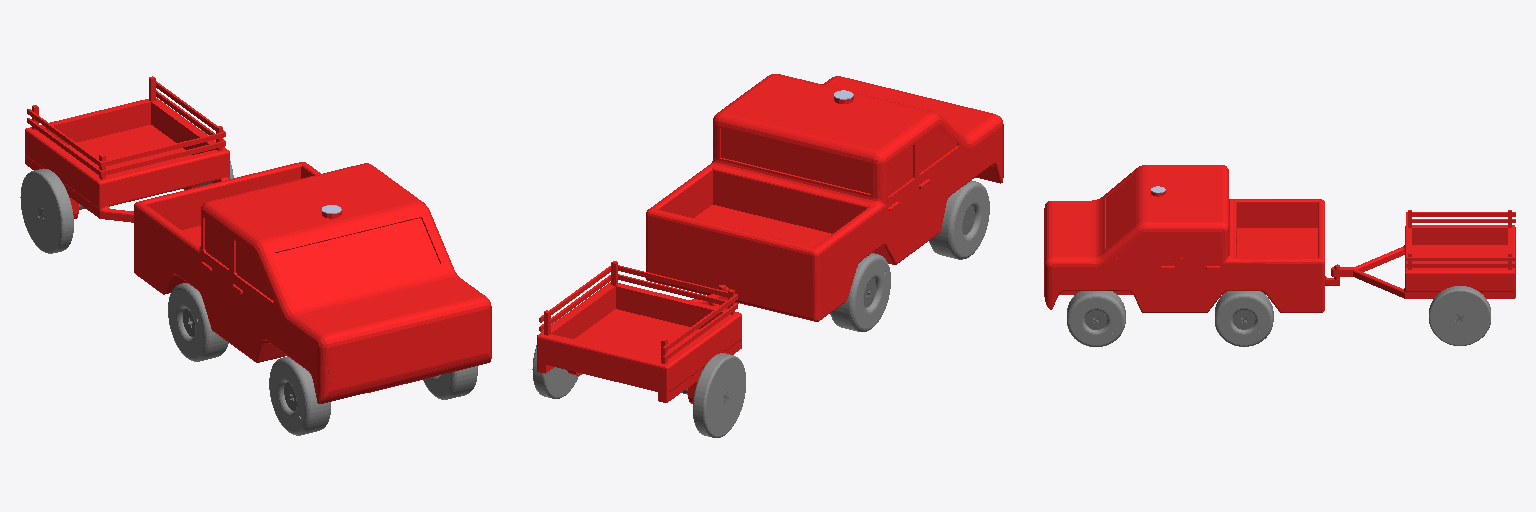
--- Render facts (derived) ---
The picture shows the robot from 3 angles, left to right: view 1: azimuth 30°, elevation 25°; view 2: azimuth 150°, elevation 25°; view 3: azimuth 270°, elevation 25°; orthographic projection.
Model project_1_group_2 with 17 links and 16 joints (2 revolute, 7 continuous, 7 fixed), rooted at dummy_link, posed all joints at 0.
Links seen in each view (by area): view 1: base_link, trailer, trailer_wheel_1, tire_1, drive_tire_1, tire_2; view 2: base_link, trailer, trailer_wheel_1, tire_1, drive_tire_1, trailer_wheel_2; view 3: base_link, trailer, trailer_wheel_2, tire_2, drive_tire_2.
Boxes of the visible links, x1=… form: base_link: x1=134, y1=162, x2=491, y2=403; trailer: x1=25, y1=76, x2=229, y2=222; trailer_wheel_1: x1=20, y1=169, x2=73, y2=253; tire_1: x1=269, y1=356, x2=330, y2=435; drive_tire_1: x1=168, y1=283, x2=228, y2=361; tire_2: x1=423, y1=366, x2=477, y2=399; base_link: x1=646, y1=74, x2=1003, y2=321; trailer: x1=537, y1=261, x2=741, y2=403; trailer_wheel_1: x1=693, y1=353, x2=745, y2=437; tire_1: x1=929, y1=180, x2=989, y2=259; drive_tire_1: x1=830, y1=253, x2=890, y2=331; trailer_wheel_2: x1=532, y1=314, x2=578, y2=398; base_link: x1=1044, y1=165, x2=1339, y2=312; trailer: x1=1331, y1=210, x2=1515, y2=298; trailer_wheel_2: x1=1429, y1=286, x2=1490, y2=345; tire_2: x1=1067, y1=291, x2=1125, y2=346; drive_tire_2: x1=1215, y1=291, x2=1273, y2=346.
Size in the robot's own frame: 0.5207 by 1.62 by 0.4847 metres.
16 mesh visuals loaded from 16 distinct referenced files (16 binary STL).

URDF robot description (project_1_group_2):
<?xml version="1.0" ?>
<!-- =================================================================================== -->
<!-- |    This document was autogenerated by xacro from [local-path]/kunj_model_ws/src/project_1_group_2/urdf/project_1_group_2.urdf.xacro | -->
<!-- |    EDITING THIS FILE BY HAND IS NOT RECOMMENDED                                 | -->
<!-- =================================================================================== -->
<!-- This URDF was automatically created by SolidWorks to URDF Exporter! Originally created by Stephen Brawner ([email redacted]) 
     Commit Version: 1.6.0-4-g7f85cfe  Build Version: 1.6.7995.38578
     For more information, please see http://wiki.ros.org/sw_urdf_exporter -->
<robot name="project_1_group_2">
  <link name="dummy_link"/>
  <joint name="dummy_joint" type="fixed">
    <origin rpy="0 0 0" xyz="0 0 0"/>
    <parent link="dummy_link"/>
    <child link="base_link"/>
  </joint>
  <link name="base_link">
    <inertial>
      <origin rpy="0 0 0" xyz="0.219542184923656 0.253147662670064 0.488981343790689"/>
      <mass value="1"/>
      <inertia ixx="3.47686976214323" ixy="1.28363813560472E-06" ixz="-8.67881754875189E-06" iyy="4.33091580677011" iyz="-0.0565812633669083" izz="1.5150564663539"/>
    </inertial>
    <visual>
      <origin rpy="0 0 0" xyz="0 0 0"/>
      <geometry>
        <mesh filename="package://project_1_group_2/meshes/base_link.STL"/>
      </geometry>
      <material name="">
        <color rgba="1 0.168627450980392 0.168627450980392 1"/>
      </material>
    </visual>
    <collision>
      <origin rpy="0 0 0" xyz="0 0 0"/>
      <geometry>
        <mesh filename="package://project_1_group_2/meshes/base_link.STL"/>
      </geometry>
    </collision>
  </link>
  <link name="steering_wheel_1">
    <inertial>
      <origin rpy="0 0 0" xyz="2.86075080291326E-08 -0.0749063419355981 -0.00254051949689645"/>
      <mass value="5.295424107267105"/>
      <inertia ixx="0.000710809060839366" ixy="-1.53957020615015E-10" ixz="-3.53322320543782E-10" iyy="0.000104054571155282" iyz="3.85934455800395E-05" izz="0.000690101015602262"/>
    </inertial>
    <visual>
      <origin rpy="0 0 0" xyz="0 0 0"/>
      <geometry>
        <mesh filename="package://project_1_group_2/meshes/steering_wheel_1.STL"/>
      </geometry>
      <material name="">
        <color rgba="1 0.168627450980392 0.168627450980392 1"/>
      </material>
    </visual>
    <collision>
      <origin rpy="0 0 0" xyz="0 0 0"/>
      <geometry>
        <mesh filename="package://project_1_group_2/meshes/steering_wheel_1.STL"/>
      </geometry>
    </collision>
  </link>
  <joint name="steering_joint_1" type="revolute">
    <origin rpy="-1.5708 0 -1.5708" xyz="0.070952 -0.7342 0.035594"/>
    <parent link="base_link"/>
    <child link="steering_wheel_1"/>
    <axis xyz="0 1 0"/>
    <limit effort="10" lower="-3.14" upper="3.14" velocity="10"/>
  </joint>
  <link name="wheel_1">
    <inertial>
      <origin rpy="0 0 0" xyz="0 0.0251005990323743 0"/>
      <mass value="0.217134053712094"/>
      <inertia ixx="0.000126052696684198" ixy="-3.30911918449584E-21" ixz="6.7762635780344E-21" iyy="0.000159854355976214" iyz="-7.03947290074457E-21" izz="0.000126052696684198"/>
    </inertial>
    <visual>
      <origin rpy="0 0 0" xyz="0 0 0"/>
      <geometry>
        <mesh filename="package://project_1_group_2/meshes/wheel_1.STL"/>
      </geometry>
      <material name="">
        <color rgba="0.498039215686275 0.498039215686275 0.498039215686275 1"/>
      </material>
    </visual>
    <collision>
      <origin rpy="0 0 0" xyz="0 0 0"/>
      <geometry>
        <mesh filename="package://project_1_group_2/meshes/wheel_1.STL"/>
      </geometry>
    </collision>
  </link>
  <joint name="wheel_1_joint" type="continuous">
    <origin rpy="-1.5707963267949 0 -1.16226628629428" xyz="0 -0.0234950000000001 -0.040767"/>
    <parent link="steering_wheel_1"/>
    <child link="wheel_1"/>
    <axis xyz="0 1 0"/>
  </joint>
  <link name="tire_1">
    <inertial>
      <origin rpy="0 0 0" xyz="0 0.0380963424606702 -6.9367125220543E-06"/>
      <mass value="1.9636352752673"/>
      <inertia ixx="0.00664149361787531" ixy="3.02337822610582E-19" ixz="2.16840434497101E-19" iyy="0.0114725337233255" iyz="5.01717636400841E-07" izz="0.00664244711710664"/>
    </inertial>
    <visual>
      <origin rpy="0 0 0" xyz="0 0 0"/>
      <geometry>
        <mesh filename="package://project_1_group_2/meshes/tire_1.STL"/>
      </geometry>
      <material name="">
        <color rgba="0.6 0.6 0.6 1"/>
      </material>
    </visual>
    <collision>
      <origin rpy="0 0 0" xyz="0 0 0"/>
      <geometry>
        <mesh filename="package://project_1_group_2/meshes/tire_1.STL"/>
      </geometry>
    </collision>
  </link>
  <joint name="tire_1_joint" type="fixed">
    <origin rpy="0 0 0" xyz="0 -0.0127000000000001 0"/>
    <parent link="wheel_1"/>
    <child link="tire_1"/>
    <axis xyz="0 0 0"/>
  </joint>
  <link name="steering_wheel_2">
    <inertial>
      <origin rpy="0 0 0" xyz="2.86075079181103E-08 0.074906341935598 0.00254051949689649"/>
      <mass value="5.295424107267105"/>
      <inertia ixx="0.000710809060839365" ixy="1.53957021878157E-10" ixz="3.53322320610221E-10" iyy="0.000104054571155282" iyz="3.85934455800397E-05" izz="0.000690101015602261"/>
    </inertial>
    <visual>
      <origin rpy="0 0 0" xyz="0 0 0"/>
      <geometry>
        <mesh filename="package://project_1_group_2/meshes/steering_wheel_2.STL"/>
      </geometry>
      <material name="">
        <color rgba="1 0.168627450980392 0.168627450980392 1"/>
      </material>
    </visual>
    <collision>
      <origin rpy="0 0 0" xyz="0 0 0"/>
      <geometry>
        <mesh filename="package://project_1_group_2/meshes/steering_wheel_2.STL"/>
      </geometry>
    </collision>
  </link>
  <joint name="steering_joint_2" type="revolute">
    <origin rpy="1.5708 0 1.5708" xyz="0.36813 -0.7342 0.035594"/>
    <parent link="base_link"/>
    <child link="steering_wheel_2"/>
    <axis xyz="0 1 0"/>
    <limit effort="100" lower="-3.14" upper="3.14" velocity="10"/>
  </joint>
  <link name="wheel_2">
    <inertial>
      <origin rpy="0 0 0" xyz="0 0.0251005990323743 0"/>
      <mass value="0.217134053712094"/>
      <inertia ixx="0.000126052696684198" ixy="-2.42959470068895E-21" ixz="0" iyy="0.000159854355976214" iyz="-1.47427383956479E-20" izz="0.000126052696684198"/>
    </inertial>
    <visual>
      <origin rpy="0 0 0" xyz="0 0 0"/>
      <geometry>
        <mesh filename="package://project_1_group_2/meshes/wheel_2.STL"/>
      </geometry>
      <material name="">
        <color rgba="0.498039215686275 0.498039215686275 0.498039215686275 1"/>
      </material>
    </visual>
    <collision>
      <origin rpy="0 0 0" xyz="0 0 0"/>
      <geometry>
        <mesh filename="package://project_1_group_2/meshes/wheel_2.STL"/>
      </geometry>
    </collision>
  </link>
  <joint name="wheel_2_joint" type="continuous">
    <origin rpy="1.5707963267949 0 0.927408187420047" xyz="0 0.0234950000000022 0.0407670000000003"/>
    <parent link="steering_wheel_2"/>
    <child link="wheel_2"/>
    <axis xyz="0 1 0"/>
  </joint>
  <link name="tire_2">
    <inertial>
      <origin rpy="0 0 0" xyz="-5.55111512312578E-17 0.0380963424606702 -6.93671252216532E-06"/>
      <mass value="1.9636352752673"/>
      <inertia ixx="0.00664149361787532" ixy="5.1086674631275E-20" ixz="-2.16840434497101E-19" iyy="0.0114725337233255" iyz="5.01717636401181E-07" izz="0.00664244711710664"/>
    </inertial>
    <visual>
      <origin rpy="0 0 0" xyz="0 0 0"/>
      <geometry>
        <mesh filename="package://project_1_group_2/meshes/tire_2.STL"/>
      </geometry>
      <material name="">
        <color rgba="0.6 0.6 0.6 1"/>
      </material>
    </visual>
    <collision>
      <origin rpy="0 0 0" xyz="0 0 0"/>
      <geometry>
        <mesh filename="package://project_1_group_2/meshes/tire_2.STL"/>
      </geometry>
    </collision>
  </link>
  <joint name="tire_2_joint" type="fixed">
    <origin rpy="0 0 0" xyz="0 -0.0126999999999999 0"/>
    <parent link="wheel_2"/>
    <child link="tire_2"/>
    <axis xyz="0 0 0"/>
  </joint>
  <link name="drive_wheel_1">
    <inertial>
      <origin rpy="0 0 0" xyz="0 -0.00140110038134092 0"/>
      <mass value="0.217134053712094"/>
      <inertia ixx="0.000126052696684197" ixy="3.65980047539585E-21" ixz="-6.7762635780344E-21" iyy="0.000159854355976214" iyz="-7.39817207392887E-22" izz="0.000126052696684197"/>
    </inertial>
    <visual>
      <origin rpy="0 0 0" xyz="0 0 0"/>
      <geometry>
        <mesh filename="package://project_1_group_2/meshes/drive_wheel_1.STL"/>
      </geometry>
      <material name="">
        <color rgba="0.498039215686275 0.498039215686275 0.498039215686275 1"/>
      </material>
    </visual>
    <collision>
      <origin rpy="0 0 0" xyz="0 0 0"/>
      <geometry>
        <mesh filename="package://project_1_group_2/meshes/drive_wheel_1.STL"/>
      </geometry>
    </collision>
  </link>
  <joint name="drive_wheel_1_joint" type="continuous">
    <origin rpy="0 -1.0561 1.5708" xyz="0 -0.2262 0.061675"/>
    <parent link="base_link"/>
    <child link="drive_wheel_1"/>
    <axis xyz="0 1 0"/>
  </joint>
  <link name="drive_tire_1">
    <inertial>
      <origin rpy="0 0 0" xyz="2.08166817117217E-17 0.0380963424606702 -6.93671252210981E-06"/>
      <mass value="1.9636352752673"/>
      <inertia ixx="0.00664149361787532" ixy="6.09678433565884E-19" ixz="8.67361737988404E-19" iyy="0.0114725337233256" iyz="5.01717636401377E-07" izz="0.00664244711710664"/>
    </inertial>
    <visual>
      <origin rpy="0 0 0" xyz="0 0 0"/>
      <geometry>
        <mesh filename="package://project_1_group_2/meshes/drive_tire_1.STL"/>
      </geometry>
      <material name="">
        <color rgba="0.6 0.6 0.6 1"/>
      </material>
    </visual>
    <collision>
      <origin rpy="0 0 0" xyz="0 0 0"/>
      <geometry>
        <mesh filename="package://project_1_group_2/meshes/drive_tire_1.STL"/>
      </geometry>
    </collision>
  </link>
  <joint name="drive_tire_1_joint" type="fixed">
    <origin rpy="0 0 0" xyz="0 -0.0392016994137152 0"/>
    <parent link="drive_wheel_1"/>
    <child link="drive_tire_1"/>
    <axis xyz="0 0 0"/>
  </joint>
  <link name="drive_wheel_2">
    <inertial>
      <origin rpy="0 0 0" xyz="0 0.0251005990323744 0"/>
      <mass value="0.217134053712094"/>
      <inertia ixx="0.000126052696684197" ixy="-5.05000906564327E-21" ixz="1.01643953670516E-20" iyy="0.000159854355976214" iyz="3.01026101938204E-21" izz="0.000126052696684198"/>
    </inertial>
    <visual>
      <origin rpy="0 0 0" xyz="0 0 0"/>
      <geometry>
        <mesh filename="package://project_1_group_2/meshes/drive_wheel_2.STL"/>
      </geometry>
      <material name="">
        <color rgba="0.498039215686275 0.498039215686275 0.498039215686275 1"/>
      </material>
    </visual>
    <collision>
      <origin rpy="0 0 0" xyz="0 0 0"/>
      <geometry>
        <mesh filename="package://project_1_group_2/meshes/drive_wheel_2.STL"/>
      </geometry>
    </collision>
  </link>
  <joint name="drive_wheel_2_joint" type="continuous">
    <origin rpy="0 0.9434 -1.5708" xyz="0.41258 -0.2262 0.061675"/>
    <parent link="base_link"/>
    <child link="drive_wheel_2"/>
    <axis xyz="0 1 0"/>
  </joint>
  <link name="drive_tire_2">
    <inertial>
      <origin rpy="0 0 0" xyz="2.77555756156289E-17 0.0380963424606702 -6.93671252208206E-06"/>
      <mass value="1.9636352752673"/>
      <inertia ixx="0.00664149361787531" ixy="3.34048618573415E-19" ixz="6.50521303491303E-19" iyy="0.0114725337233255" iyz="5.0171763640111E-07" izz="0.00664244711710664"/>
    </inertial>
    <visual>
      <origin rpy="0 0 0" xyz="0 0 0"/>
      <geometry>
        <mesh filename="package://project_1_group_2/meshes/drive_tire_2.STL"/>
      </geometry>
      <material name="">
        <color rgba="0.6 0.6 0.6 1"/>
      </material>
    </visual>
    <collision>
      <origin rpy="0 0 0" xyz="0 0 0"/>
      <geometry>
        <mesh filename="package://project_1_group_2/meshes/drive_tire_2.STL"/>
      </geometry>
    </collision>
  </link>
  <joint name="drive_tire_2_joint" type="fixed">
    <origin rpy="3.14159265358979 0 3.14159265358979" xyz="0 -0.0126999999999999 0"/>
    <parent link="drive_wheel_2"/>
    <child link="drive_tire_2"/>
    <axis xyz="0 0 0"/>
  </joint>
  <link name="trailer">
    <inertial>
      <origin rpy="0 0 0" xyz="-2.14872014431267E-07 0.122240676993307 0.407195343988752"/>
      <mass value=".5"/>
      <inertia ixx="0.106926412723749" ixy="-2.14631197863797E-08" ixz="-2.44065610516401E-07" iyy="0.204818186461493" iyz="-0.00158445646443877" izz="0.111161118457744"/>
    </inertial>
    <visual>
      <origin rpy="0 0 0" xyz="0 0 0"/>
      <geometry>
        <mesh filename="package://project_1_group_2/meshes/trailer.STL"/>
      </geometry>
      <material name="">
        <color rgba="1 0.168627450980392 0.168627450980392 1"/>
      </material>
    </visual>
    <collision>
      <origin rpy="0 0 0" xyz="0 0 0"/>
      <geometry>
        <mesh filename="package://project_1_group_2/meshes/trailer.STL"/>
      </geometry>
    </collision>
  </link>
  <joint name="trailer_joint" type="continuous">
    <origin rpy="1.5708 0 3.1416" xyz="0.21954 0.093844 0.041004"/>
    <parent link="base_link"/>
    <child link="trailer"/>
    <axis xyz="0 1 0"/>
  </joint>
  <link name="trailer_axle">
    <inertial>
      <origin rpy="0 0 0" xyz="0 -2.4980018054066E-16 0"/>
      <mass value="0.388537069771013"/>
      <inertia ixx="0.00709487470732702" ixy="4.69749067079451E-19" ixz="0" iyy="5.66992976163243E-05" iyz="2.01714087208509E-19" izz="0.00709487470732702"/>
    </inertial>
    <visual>
      <origin rpy="0 0 0" xyz="0 0 0"/>
      <geometry>
        <mesh filename="package://project_1_group_2/meshes/trailer_axle.STL"/>
      </geometry>
      <material name="">
        <color rgba="0.498039215686275 0.498039215686275 0.498039215686275 1"/>
      </material>
    </visual>
    <collision>
      <origin rpy="0 0 0" xyz="0 0 0"/>
      <geometry>
        <mesh filename="package://project_1_group_2/meshes/trailer_axle.STL"/>
      </geometry>
    </collision>
  </link>
  <joint name="trailer_axle_joint" type="continuous">
    <origin rpy="0 -0.538949692004304 -1.5707963267949" xyz="0 0.0312032475847516 0.422121581912838"/>
    <parent link="trailer"/>
    <child link="trailer_axle"/>
    <axis xyz="0 1 0"/>
  </joint>
  <link name="trailer_wheel_1">
    <inertial>
      <origin rpy="0 0 0" xyz="2.77555756156289E-17 -5.55111512312578E-17 0.01905"/>
      <mass value="1.30378374657888"/>
      <inertia ixx="0.00396064889398226" ixy="-2.16840434497101E-19" ixz="-1.43965953811448E-19" iyy="0.00396064889398226" iyz="2.23294111251937E-19" izz="0.00761008083736416"/>
    </inertial>
    <visual>
      <origin rpy="0 0 0" xyz="0 0 0"/>
      <geometry>
        <mesh filename="package://project_1_group_2/meshes/trailer_wheel_1.STL"/>
      </geometry>
      <material name="">
        <color rgba="0.6 0.6 0.6 1"/>
      </material>
    </visual>
    <collision>
      <origin rpy="0 0 0" xyz="0 0 0"/>
      <geometry>
        <mesh filename="package://project_1_group_2/meshes/trailer_wheel_1.STL"/>
      </geometry>
    </collision>
  </link>
  <joint name="trailer_wheel_1_joint" type="fixed">
    <origin rpy="-1.5707963267949 0 0" xyz="0 0.2159 0"/>
    <parent link="trailer_axle"/>
    <child link="trailer_wheel_1"/>
    <axis xyz="0 0 0"/>
  </joint>
  <link name="trailer_wheel_2">
    <inertial>
      <origin rpy="0 0 0" xyz="5.55111512312578E-17 5.55111512312578E-17 0.01905"/>
      <mass value="1.30378374657888"/>
      <inertia ixx="0.00396064889398225" ixy="3.25260651745651E-19" ixz="-1.14918482212615E-18" iyy="0.00396064889398226" iyz="-5.07286706220775E-18" izz="0.00761008083736415"/>
    </inertial>
    <visual>
      <origin rpy="0 0 0" xyz="0 0 0"/>
      <geometry>
        <mesh filename="package://project_1_group_2/meshes/trailer_wheel_2.STL"/>
      </geometry>
      <material name="">
        <color rgba="0.6 0.6 0.6 1"/>
      </material>
    </visual>
    <collision>
      <origin rpy="0 0 0" xyz="0 0 0"/>
      <geometry>
        <mesh filename="package://project_1_group_2/meshes/trailer_wheel_2.STL"/>
      </geometry>
    </collision>
  </link>
  <joint name="trailer_wheel_2_joint" type="fixed">
    <origin rpy="-1.5707963267949 0 3.14159265358979" xyz="0 -0.2159 0"/>
    <parent link="trailer_axle"/>
    <child link="trailer_wheel_2"/>
    <axis xyz="0 0 0"/>
  </joint>
  <link name="lidar_link">
    <inertial>
      <origin rpy="0 0 0" xyz="0 0.00127000000000005 0"/>
      <mass value="0.00514814798763055"/>
      <inertia ixx="8.33112604888014E-07" ixy="-3.20922964057601E-40" ixz="0" iyy="1.66068957784986E-06" iyz="2.8186396765545E-40" izz="8.33112604888014E-07"/>
    </inertial>
    <visual>
      <origin rpy="0 0 0" xyz="0 0 0"/>
      <geometry>
        <mesh filename="package://project_1_group_2/meshes/lidar_link.STL"/>
      </geometry>
      <material name="">
        <color rgba="0.792156862745098 0.819607843137255 0.933333333333333 1"/>
      </material>
    </visual>
    <collision>
      <origin rpy="0 0 0" xyz="0 0 0"/>
      <geometry>
        <mesh filename="package://project_1_group_2/meshes/lidar_link.STL"/>
      </geometry>
    </collision>
  </link>
  <joint name="lidar_joint" type="continuous">
    <origin rpy="1.5707963267949 0 0" xyz="0.219541699413715 -0.521188368096002 0.439623181973066"/>
    <parent link="base_link"/>
    <child link="lidar_link"/>
    <axis xyz="0 1 0"/>
  </joint>
  <ros2_control name="GazeboSystem" type="system">
    <hardware>
      <plugin>gazebo_ros2_control/GazeboSystem</plugin>
    </hardware>
    <joint name="drive_wheel_1_joint">
      <command_interface name="velocity">
        <param name="min">-100.0</param>
        <param name="max">100.0</param>
      </command_interface>
      <state_interface name="position"/>
      <state_interface name="velocity"/>
    </joint>
    <joint name="drive_wheel_2_joint">
      <command_interface name="velocity">
        <param name="min">-100.0</param>
        <param name="max">100.0</param>
      </command_interface>
      <state_interface name="position"/>
      <state_interface name="velocity"/>
    </joint>
    <joint name="steering_joint_1">
      <command_interface name="position">
        <param name="min">-3.14</param>
        <param name="max">3.14</param>
      </command_interface>
      <state_interface name="position"/>
      <state_interface name="velocity"/>
    </joint>
    <joint name="steering_joint_2">
      <command_interface name="position">
        <param name="min">-3.14</param>
        <param name="max">3.14</param>
      </command_interface>
      <state_interface name="position"/>
      <state_interface name="velocity"/>
    </joint>
  </ros2_control>
  <gazebo>
    <plugin filename="libgazebo_ros2_control.so" name="gazebo_ros2_control">
      <parameters>[local-path]/kunj_model_ws/install/project_1_group_2/share/project_1_group_2/config/control.yaml</parameters>
    </plugin>
  </gazebo>
  <gazebo reference="base_link">
    <visual>
      <material>
        <ambient>1 0.168627450980392 0.168627450980392 1</ambient>
        <diffuse>1 0.168627450980392 0.168627450980392 1</diffuse>
        <specular>0.1 0.1 0.1 1</specular>
        <emissive>0 0 0 0</emissive>
      </material>
    </visual>
  </gazebo>
  <gazebo reference="steering_wheel_1">
    <visual>
      <material>
        <ambient>1 0.168627450980392 0.168627450980392 1</ambient>
        <diffuse>1 0.168627450980392 0.168627450980392 1</diffuse>
        <specular>0.1 0.1 0.1 1</specular>
        <emissive>0 0 0 0</emissive>
      </material>
    </visual>
  </gazebo>
  <gazebo reference="steering_wheel_2">
    <visual>
      <material>
        <ambient>1 0.168627450980392 0.168627450980392 1</ambient>
        <diffuse>1 0.168627450980392 0.168627450980392 1</diffuse>
        <specular>0.1 0.1 0.1 1</specular>
        <emissive>0 0 0 0</emissive>
      </material>
    </visual>
  </gazebo>
  <gazebo reference="wheel_1">
    <visual>
      <material>
        <ambient>0.8 0.558823529411765 0.1 1</ambient>
        <diffuse>0.8 0.558823529411765 0.1 1</diffuse>
        <specular>0.1 0.1 0.1 1</specular>
        <emissive>0 0 0 0</emissive>
      </material>
    </visual>
  </gazebo>
  <gazebo reference="wheel_2">
    <visual>
      <material>
        <ambient>0.8 0.558823529411765 0.1 1</ambient>
        <diffuse>0.8 0.558823529411765 0.1 1</diffuse>
        <specular>0.1 0.1 0.1 1</specular>
        <emissive>0 0 0 0</emissive>
      </material>
    </visual>
  </gazebo>
  <gazebo reference="tire_1">
    <visual>
      <material>
        <ambient>0.6 0.6 0.6 1</ambient>
        <diffuse>0.6 0.6 0.6 1</diffuse>
        <specular>0.1 0.1 0.1 1</specular>
        <emissive>0 0 0 0</emissive>
      </material>
    </visual>
  </gazebo>
  <gazebo reference="tire_2">
    <visual>
      <material>
        <ambient>0.6 0.6 0.6 1</ambient>
        <diffuse>0.6 0.6 0.6 1</diffuse>
        <specular>0.1 0.1 0.1 1</specular>
        <emissive>0 0 0 0</emissive>
      </material>
    </visual>
  </gazebo>
  <gazebo reference="drive_wheel_1">
    <visual>
      <material>
        <ambient>0.8 0.558823529411765 0.1 1</ambient>
        <diffuse>0.8 0.558823529411765 0.1 1</diffuse>
        <specular>0.1 0.1 0.1 1</specular>
        <emissive>0 0 0 0</emissive>
      </material>
    </visual>
  </gazebo>
  <gazebo reference="drive_wheel_2">
    <visual>
      <material>
        <ambient>0.8 0.558823529411765 0.1 1</ambient>
        <diffuse>0.8 0.558823529411765 0.1 1</diffuse>
        <specular>0.1 0.1 0.1 1</specular>
        <emissive>0 0 0 0</emissive>
      </material>
    </visual>
  </gazebo>
  <gazebo reference="drive_tire_1">
    <visual>
      <material>
        <ambient>0.6 0.6 0.6 1</ambient>
        <diffuse>0.6 0.6 0.6 1</diffuse>
        <specular>0.1 0.1 0.1 1</specular>
        <emissive>0 0 0 0</emissive>
      </material>
    </visual>
  </gazebo>
  <gazebo reference="drive_tire_2">
    <visual>
      <material>
        <ambient>0.6 0.6 0.6 1</ambient>
        <diffuse>0.6 0.6 0.6 1</diffuse>
        <specular>0.1 0.1 0.1 1</specular>
        <emissive>0 0 0 0</emissive>
      </material>
    </visual>
  </gazebo>
  <gazebo reference="trailer">
    <visual>
      <material>
        <ambient>1 0.168627450980392 0.168627450980392 1</ambient>
        <diffuse>1 0.168627450980392 0.168627450980392 1</diffuse>
        <specular>0.1 0.1 0.1 1</specular>
        <emissive>0 0 0 0</emissive>
      </material>
    </visual>
  </gazebo>
  <gazebo reference="trailer_axle">
    <visual>
      <material>
        <ambient>0.8 0.558823529411765 0.1 1</ambient>
        <diffuse>0.8 0.558823529411765 0.1 1</diffuse>
        <specular>0.1 0.1 0.1 1</specular>
        <emissive>0 0 0 0</emissive>
      </material>
    </visual>
  </gazebo>
  <gazebo reference="trailer_wheel_1">
    <visual>
      <material>
        <ambient>0.6 0.6 0.6 1</ambient>
        <diffuse>0.6 0.6 0.6 1</diffuse>
        <specular>0.1 0.1 0.1 1</specular>
        <emissive>0 0 0 0</emissive>
      </material>
    </visual>
  </gazebo>
  <gazebo reference="trailer_wheel_2">
    <visual>
      <material>
        <ambient>0.6 0.6 0.6 1</ambient>
        <diffuse>0.6 0.6 0.6 1</diffuse>
        <specular>0.1 0.1 0.1 1</specular>
        <emissive>0 0 0 0</emissive>
      </material>
    </visual>
  </gazebo>
  <gazebo reference="lidar_link">
    <visual>
      <material>
        <ambient>0.6 0.6 0.6 1</ambient>
        <diffuse>0.6 0.6 0.6 1</diffuse>
        <specular>0.1 0.1 0.1 1</specular>
        <emissive>0 0 0 0</emissive>
      </material>
    </visual>
  </gazebo>
  <gazebo reference="lidar_link">
    <sensor name="lidar" type="ray">
      <pose>0.0 0.0 0.0 1.57 0 0</pose>
      <always_on>true</always_on>
      <visualize>true</visualize>
      <update_rate>5</update_rate>
      <ray>
        <scan>
          <horizontal>
            <samples>360</samples>
            <resolution>1.00000</resolution>
            <min_angle>0.000000</min_angle>
            <max_angle>6.280000</max_angle>
          </horizontal>
        </scan>
        <range>
          <min>0.120000</min>
          <max>3.5</max>
          <resolution>0.015000</resolution>
        </range>
        <noise>
          <type>gaussian</type>
          <mean>0.0</mean>
          <stddev>0.01</stddev>
        </noise>
      </ray>
      <plugin filename="libgazebo_ros_ray_sensor.so" name="scan">
        <ros>
          <remapping>~/out:=scan</remapping>
        </ros>
        <output_type>sensor_msgs/LaserScan</output_type>
        <frame_name>lidar_link</frame_name>
      </plugin>
    </sensor>
  </gazebo>
</robot>
